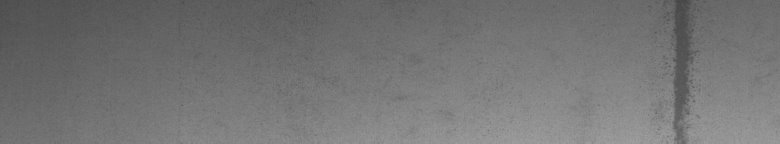hd: (664, 4, 700, 136)
